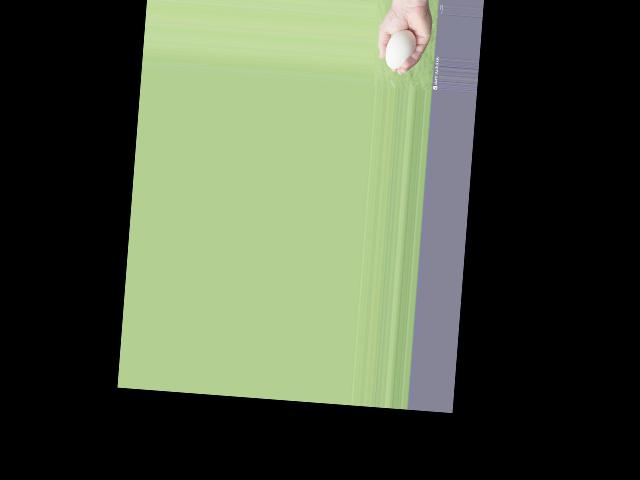egg: (384, 27, 417, 70)
